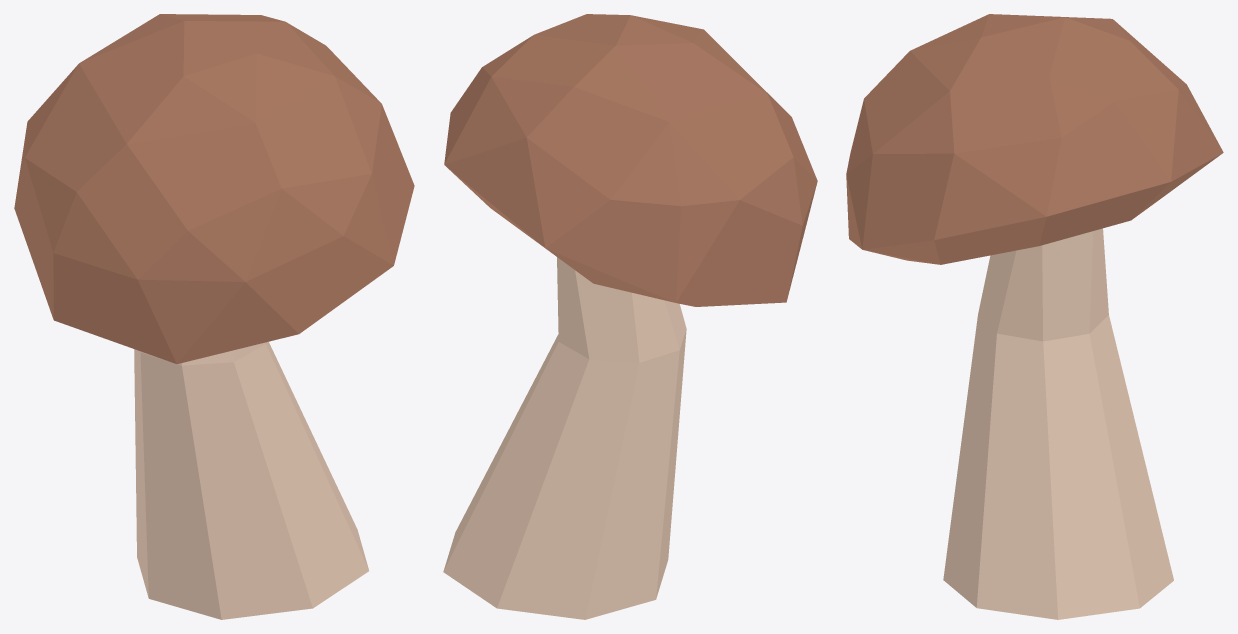
File: mushroom-brown.glb
The picture shows the model from 3 angles, left to right: view 1: azimuth 30°, elevation 25°; view 2: azimuth 150°, elevation 25°; view 3: azimuth 270°, elevation 25°; orthographic projection. The views are drawn at different scales.
Visible parts, largest first — view 1: Node; view 2: Node; view 3: Node.
Boxes of the visible parts, left/top/right/bottom form: Node: left=14, top=14, right=414, bottom=619; Node: left=443, top=14, right=817, bottom=619; Node: left=846, top=14, right=1223, bottom=619.
Size of the model in its own units: 0.2044 by 0.3226 by 0.2038.
